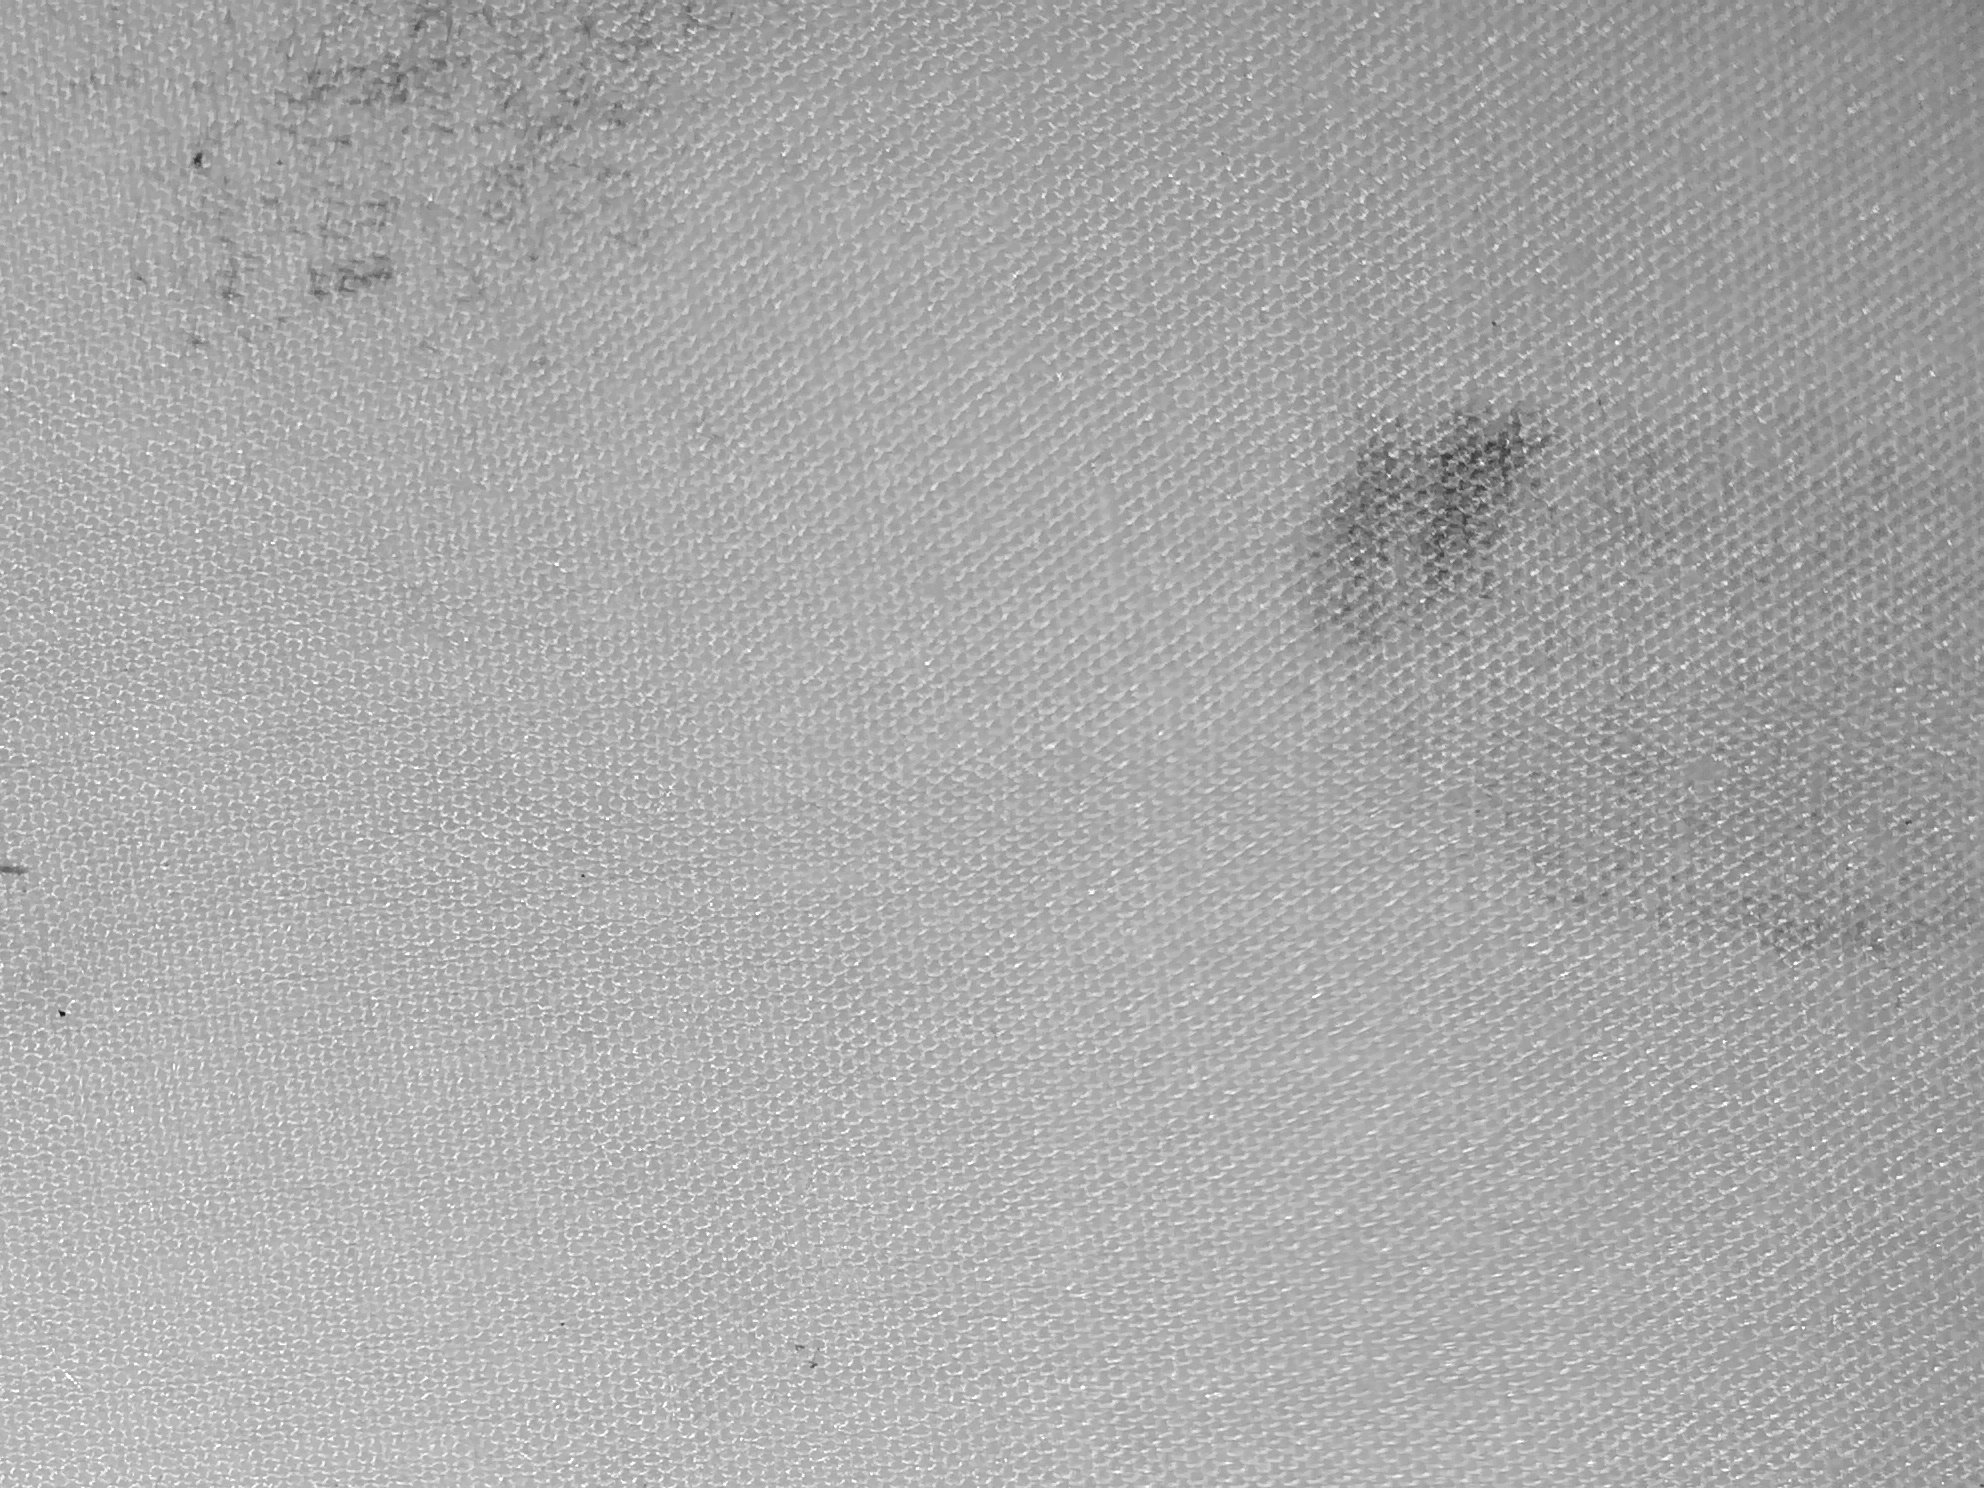Stain: (1208, 300, 1984, 983), (89, 2, 711, 517)
